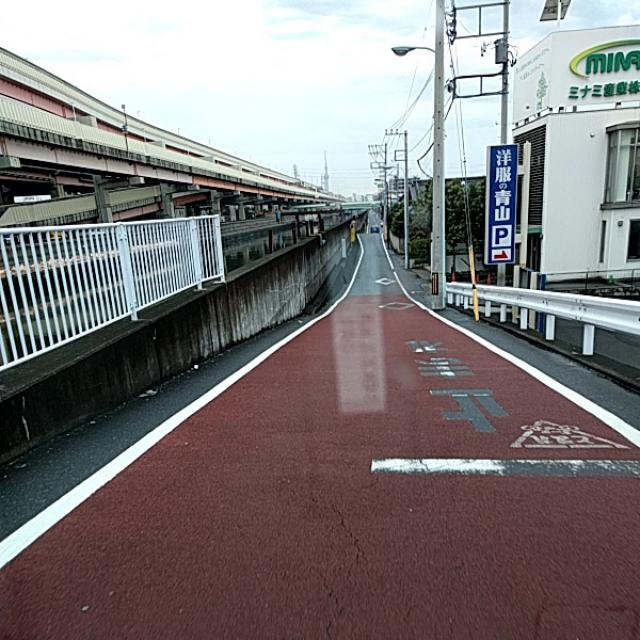pothole: (334, 513, 357, 564)
